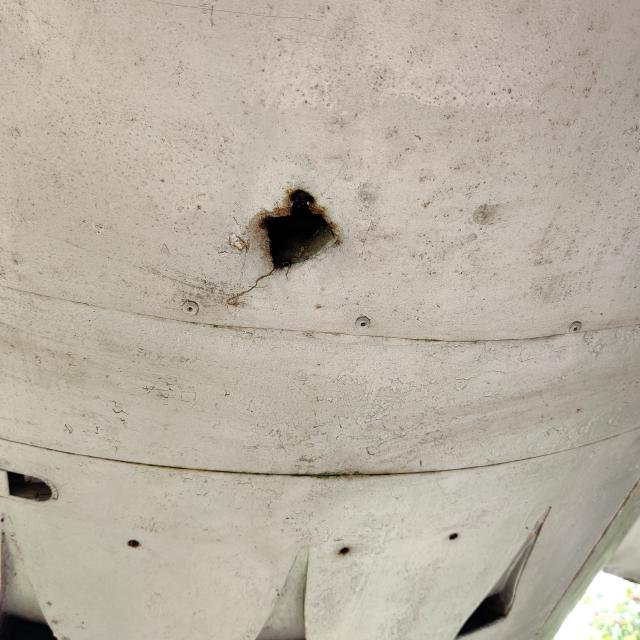crack: (224, 178, 348, 307)
